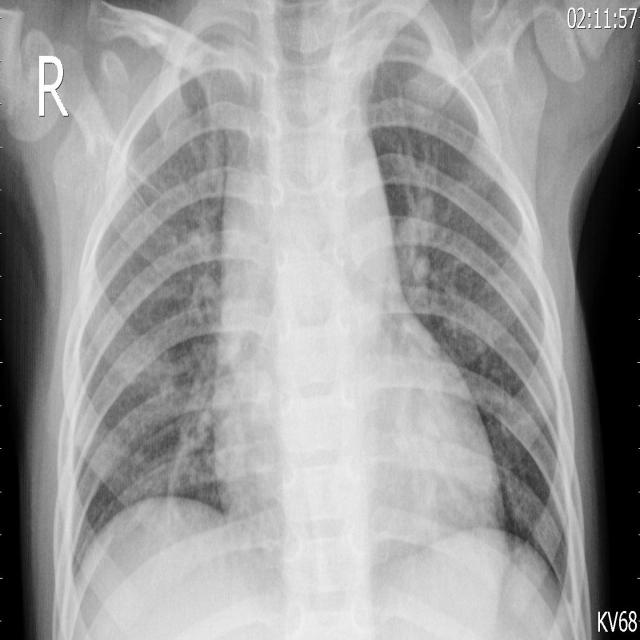low-pneumonia: (388, 150, 492, 335), (147, 150, 225, 340), (157, 366, 222, 490)
